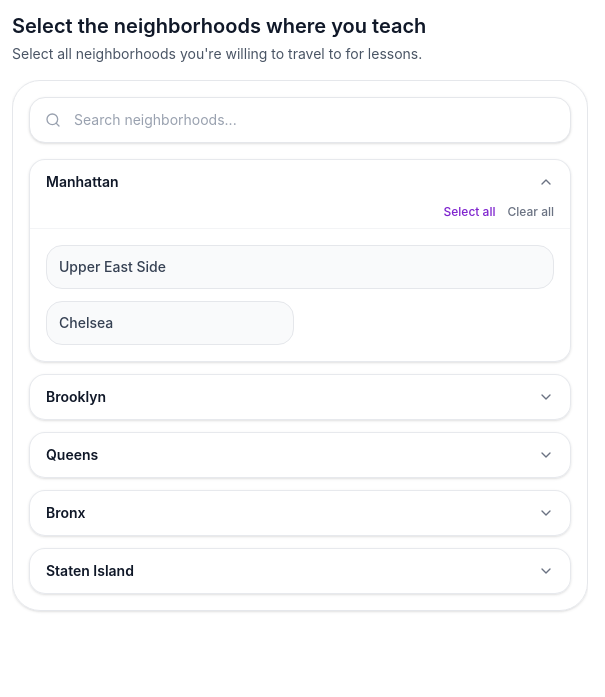
Scenario: NeighborhoodSelector › renders Marble Hill in both Bronx and Manhattan during search
The width and height of the screenshot is (605, 697).
Type "Marble Hill" into the field with test id "neighborhood-search-input".
click(300, 120); type("Marble Hill")  # box [29,97,571,143]
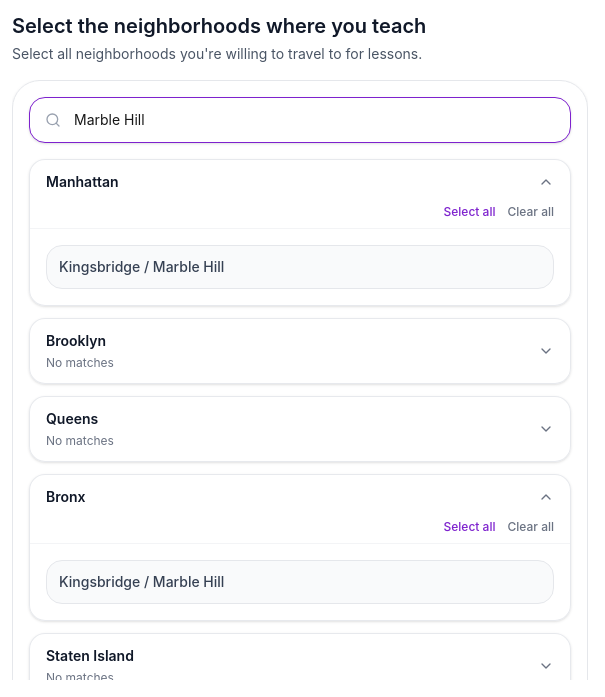
Expected: the text "Kingsbridge / Marble Hill" is shown 2 times, [59,257,224,277]; [59,572,224,592]
Now the button with test id "neighborhood-borough-bronx" is expanded, box [46,487,554,507]
